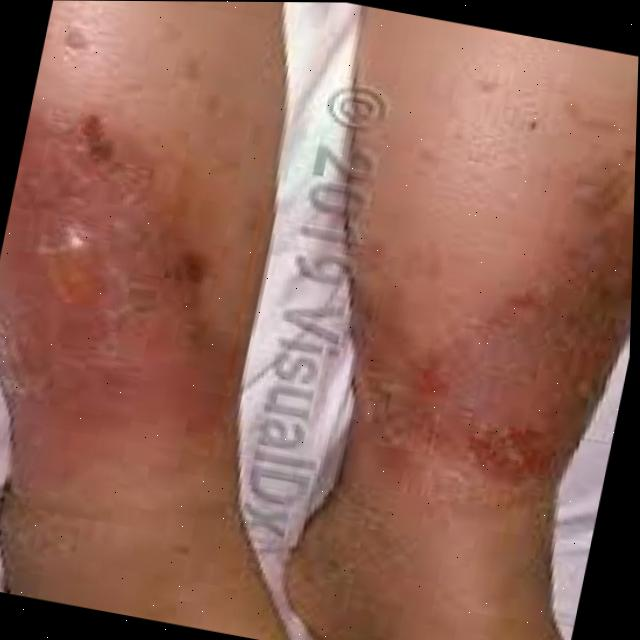Eczema: (326, 108, 637, 549), (0, 118, 239, 540)
